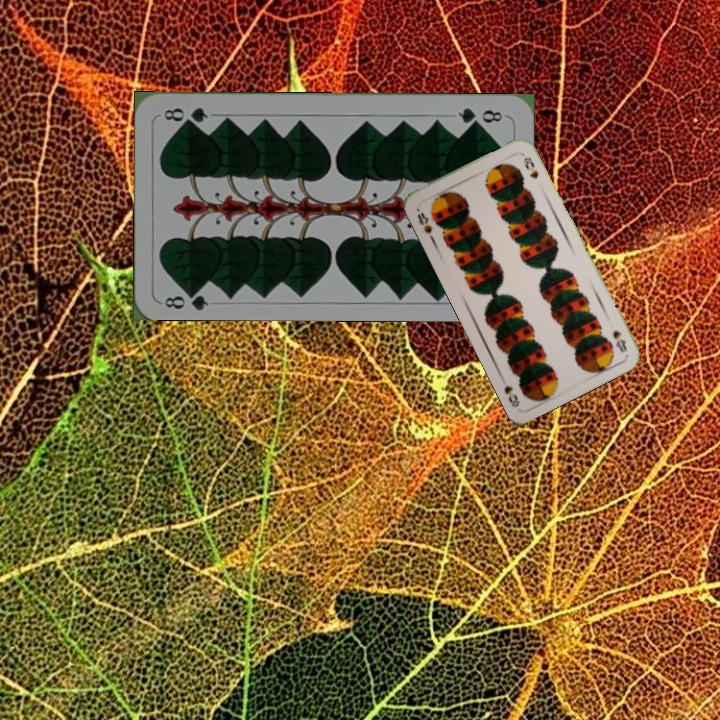G8: (161, 285, 211, 312), (454, 103, 505, 127)
S8: (413, 208, 436, 242), (608, 326, 630, 355)
